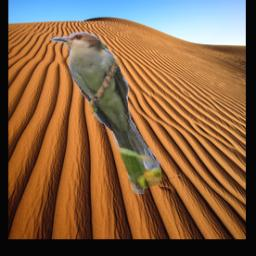Cuckoo: (50, 32, 161, 195)
